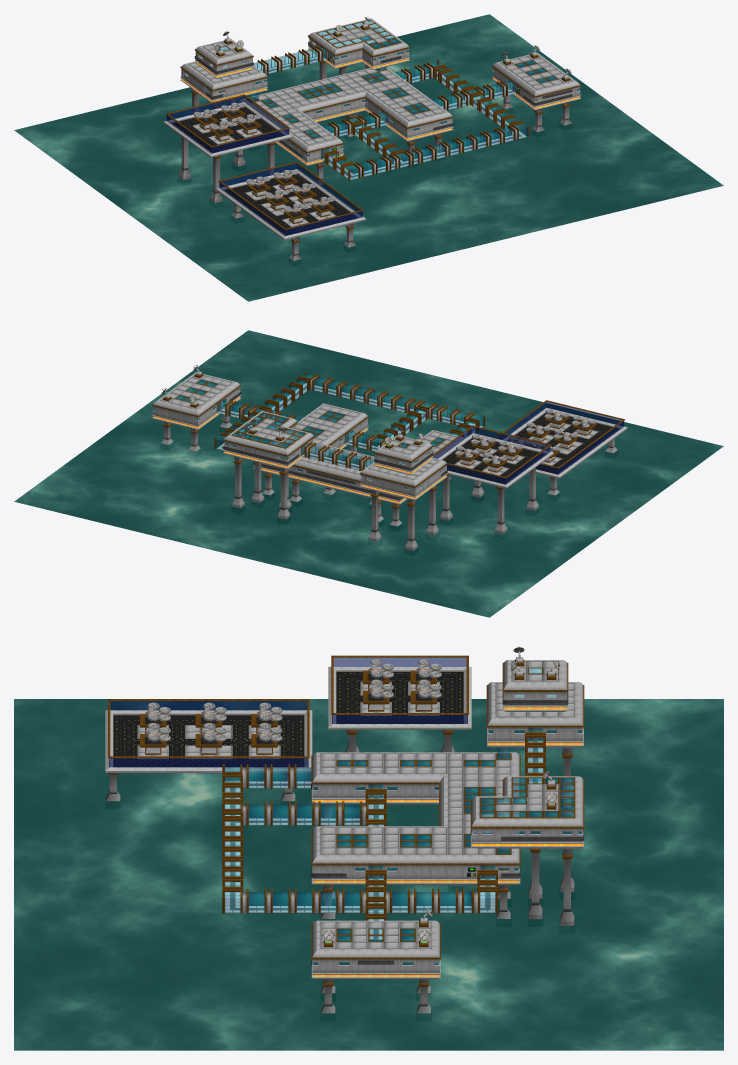
File: sci-fi_ocean_facility.glb
3 renders of one model, top to bottom at view 1: azimuth 30°, elevation 25°; view 2: azimuth 150°, elevation 25°; view 3: azimuth 270°, elevation 25°, orthographic. The views are drawn at different scales.
Visible parts, largest first — view 1: Sci_fi_Ocean; view 2: Sci_fi_Ocean; view 3: Sci_fi_Ocean, Sci_Fi_Pile_Tall5, Sci_Fi_Pile_Tall6, Sci_Fi_Shield_Tunnel_Corner6, Sci_Fi_Shield_Tunnel_Corner5.
Part boxes in pixels (<box>): Sci_fi_Ocean: <box>14,14,723,301</box>; Sci_fi_Ocean: <box>14,330,723,617</box>; Sci_fi_Ocean: <box>14,699,723,1050</box>; Sci_Fi_Pile_Tall5: <box>560,848,574,925</box>; Sci_Fi_Pile_Tall6: <box>528,848,542,919</box>; Sci_Fi_Shield_Tunnel_Corner6: <box>471,886,498,913</box>; Sci_Fi_Shield_Tunnel_Corner5: <box>222,886,248,913</box>.
Size of the model in its own units: 0.522 by 0.1115 by 0.4456.
Materials: 6 (6 with a texture image).
